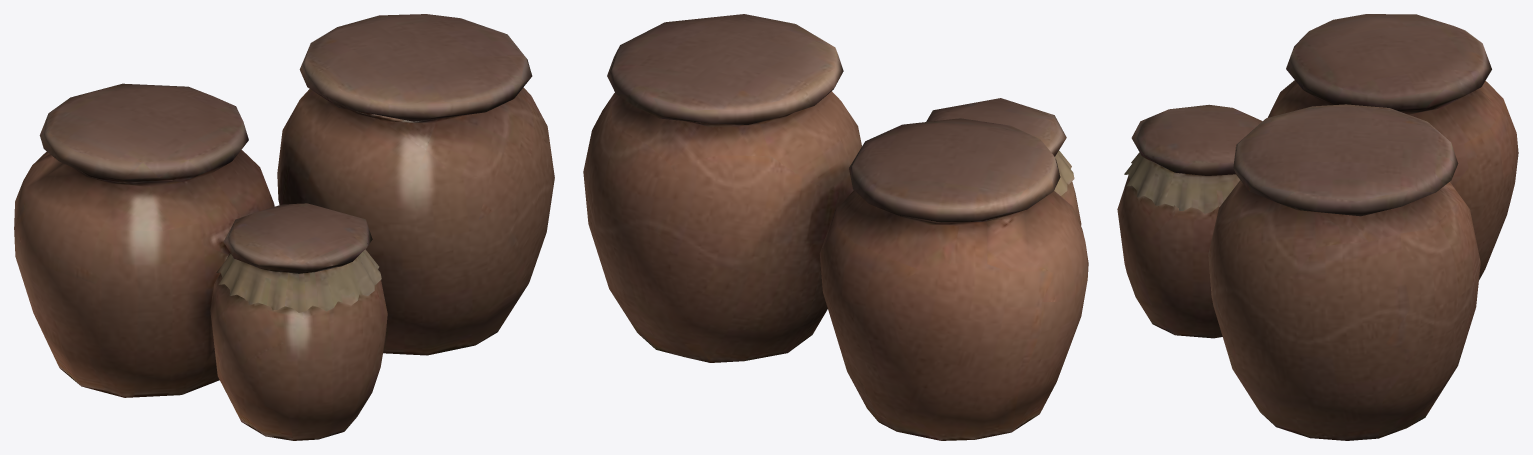
The model's file is jars_far.glb.
3 views of the same model, side by side, from view 1: azimuth 30°, elevation 25°; view 2: azimuth 150°, elevation 25°; view 3: azimuth 270°, elevation 25° (orthographic). The views are drawn at different scales.
Parts seen in each view (by area): view 1: jars_lod1; view 2: jars_lod1; view 3: jars_lod1.
Part boxes in pixels (bbox=[...]): jars_lod1: bbox=[14, 14, 554, 440]; jars_lod1: bbox=[583, 14, 1088, 440]; jars_lod1: bbox=[1117, 14, 1518, 440].
Size of the model in its own units: 1.95 by 1.05 by 1.44.
Materials: 1 (1 with a texture image).
